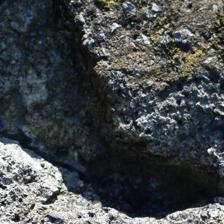Crack: (43, 2, 144, 120), (0, 3, 105, 113), (59, 7, 149, 120), (51, 110, 101, 139)
